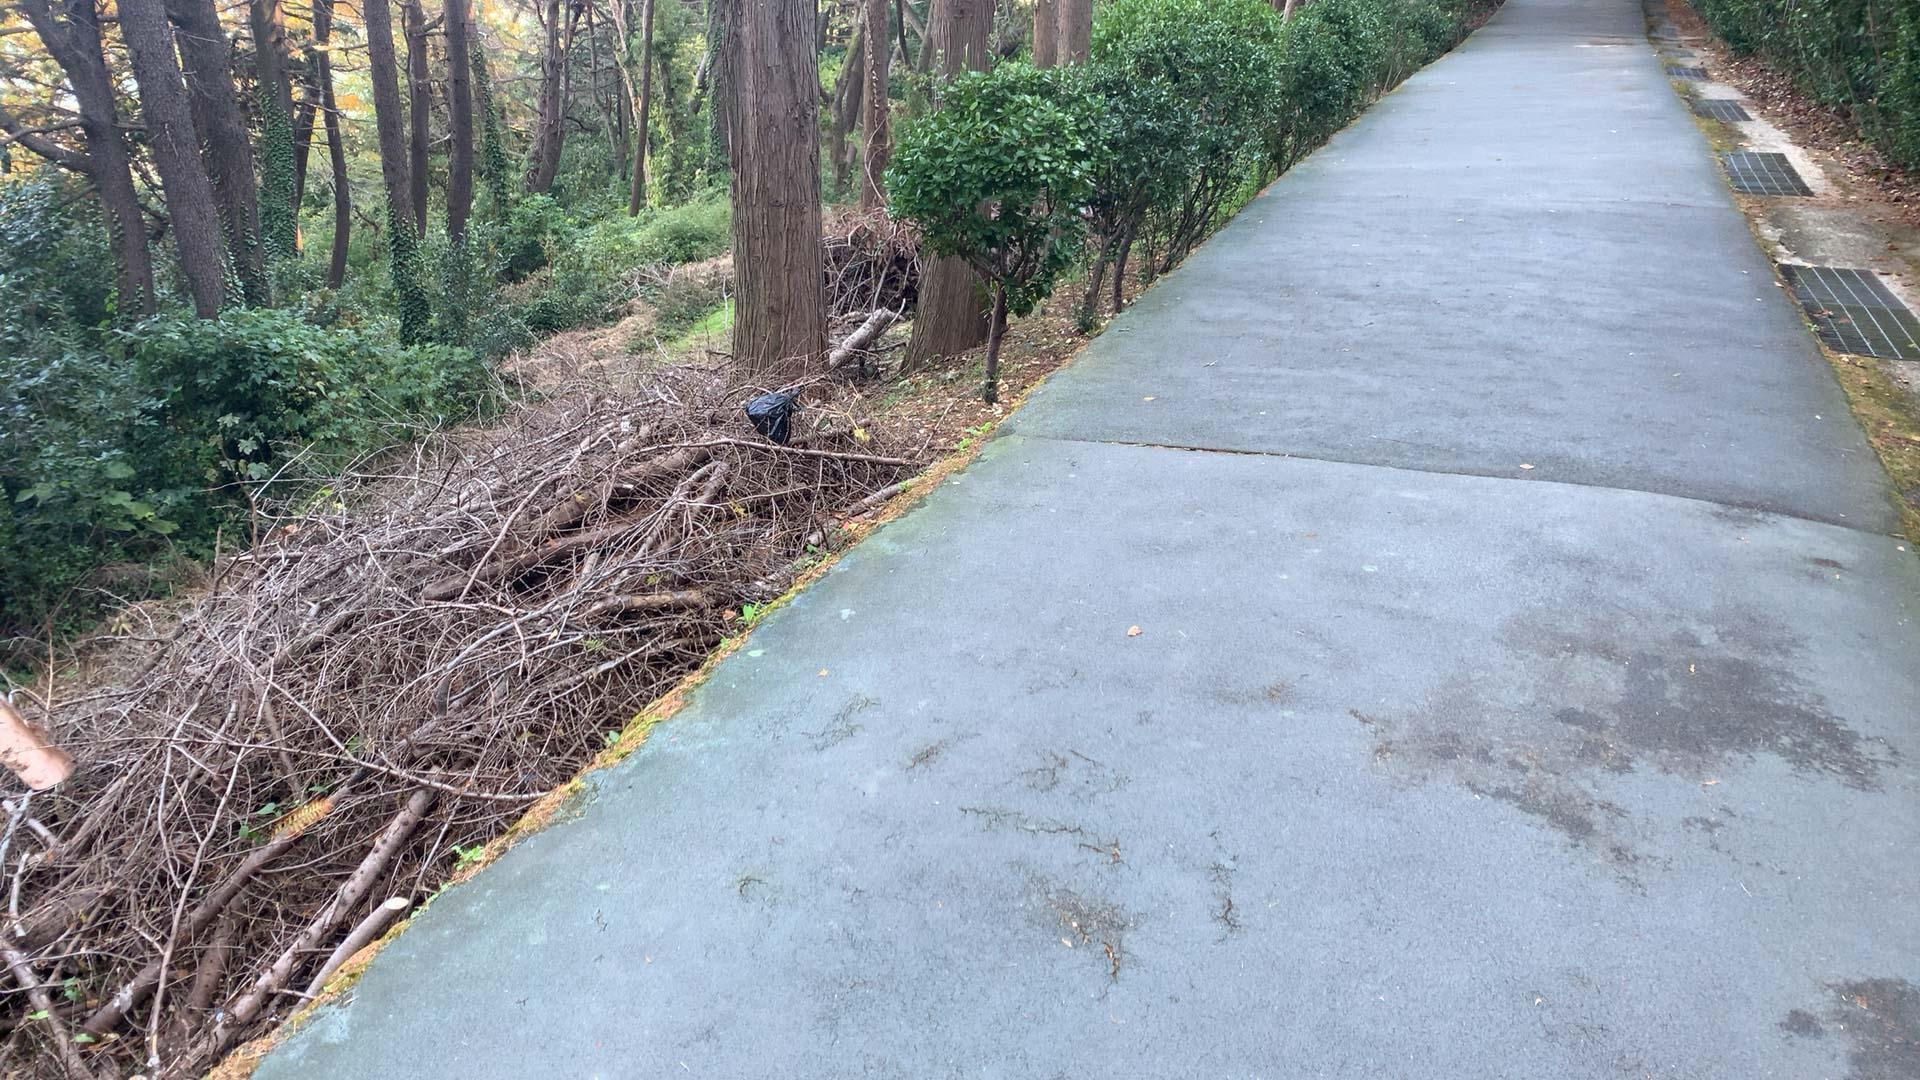black_bag: (731, 381, 804, 447)
